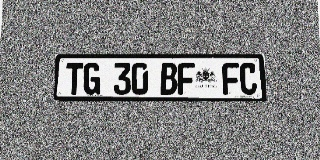0: (131, 63, 148, 95)
3: (114, 63, 131, 95)
B: (160, 63, 177, 95)
C: (239, 63, 257, 95)
F: (222, 63, 240, 95), (178, 63, 195, 95)
G: (83, 63, 101, 95)
T: (66, 63, 83, 95)
